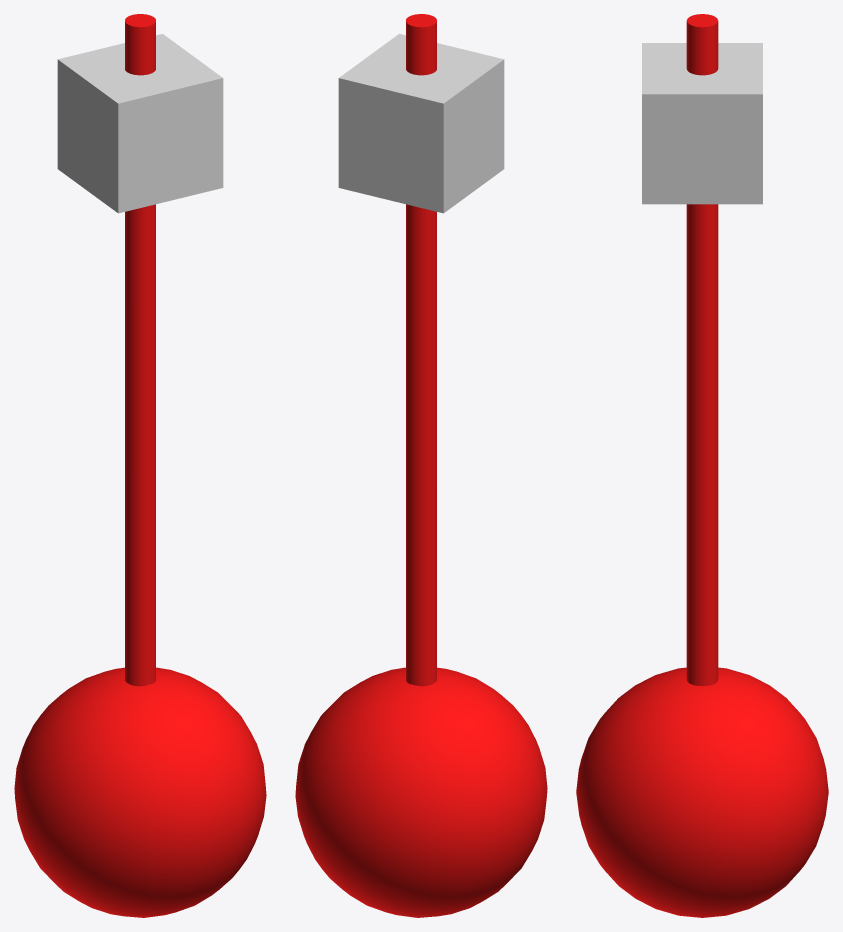
The model's file is Pendlum.fbx.
3 views of the same model, side by side, from view 1: azimuth 30°, elevation 25°; view 2: azimuth 150°, elevation 25°; view 3: azimuth 270°, elevation 25° (orthographic).
Visible parts, largest first — view 1: Sphere, Pendlum, cylinder; view 2: Sphere, Pendlum, cylinder; view 3: Sphere, Pendlum, cylinder.
Part boxes in pixels (x1,y1,x2,y2): Sphere: [14, 667, 266, 917]; Pendlum: [57, 34, 223, 213]; cylinder: [125, 14, 155, 686]; Sphere: [295, 667, 547, 917]; Pendlum: [338, 34, 504, 213]; cylinder: [406, 14, 436, 686]; Sphere: [576, 667, 828, 917]; Pendlum: [642, 43, 762, 204]; cylinder: [686, 14, 718, 685].
Size of the model in its own units: 208 by 807 by 208.
